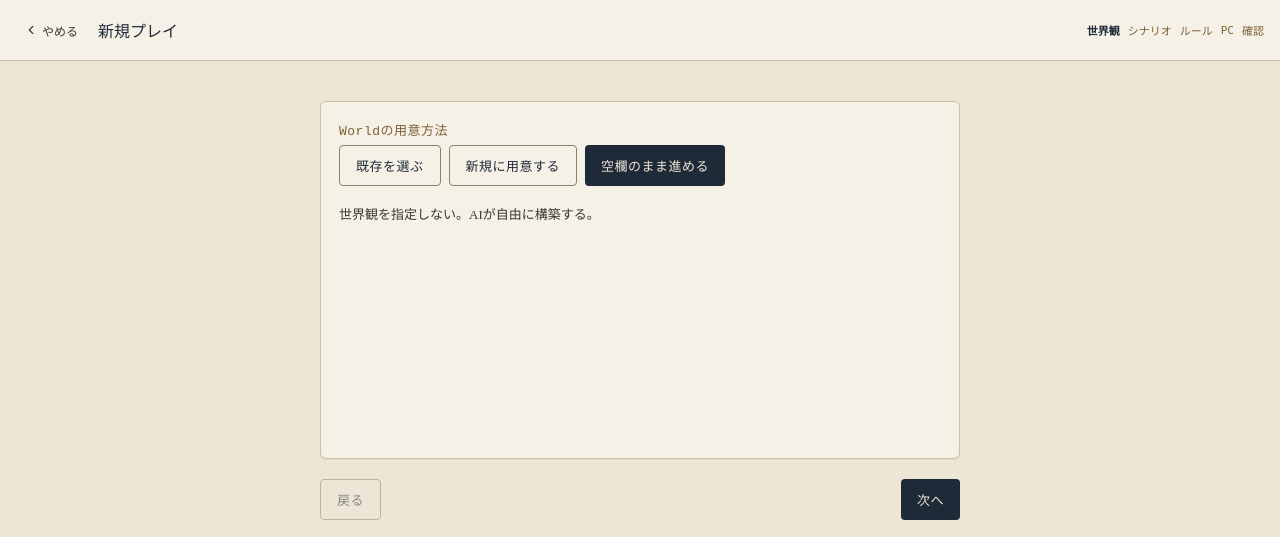
it: Setup › points the empty world state at the gallery
Click the button "既存を選ぶ".
click(390, 166)  # box [339,145,440,186]
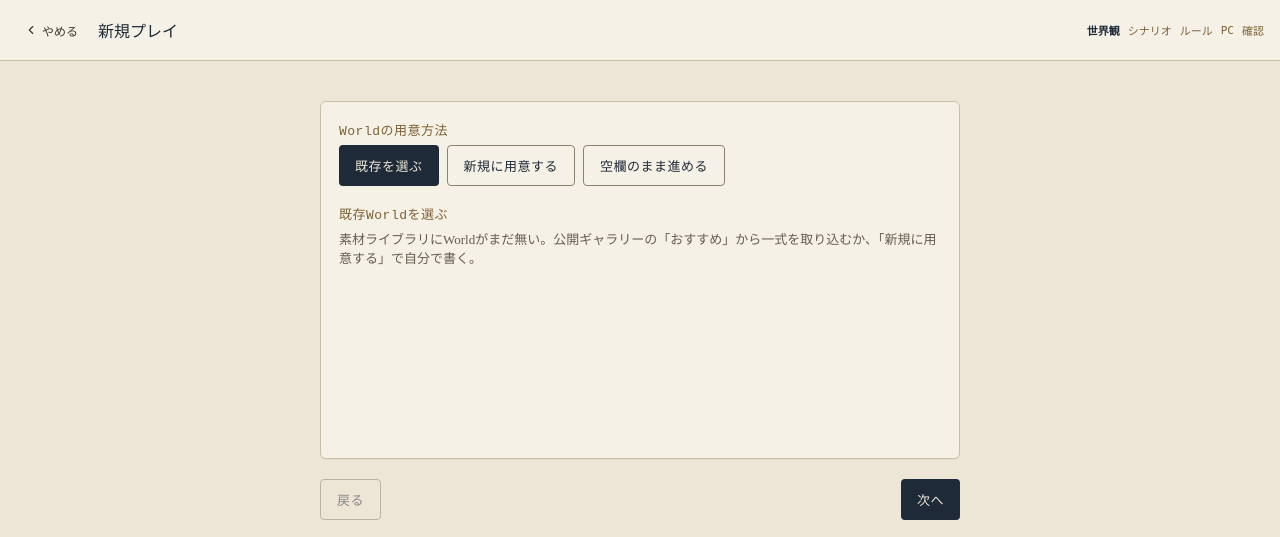
expect the text "素材ライブラリにWorldがまだ無い。公開ギャラリーの「おすすめ」から一式を取り込むか、「新規に用意する」で自分で書く。" is shown: met, box [339,229,941,267]
